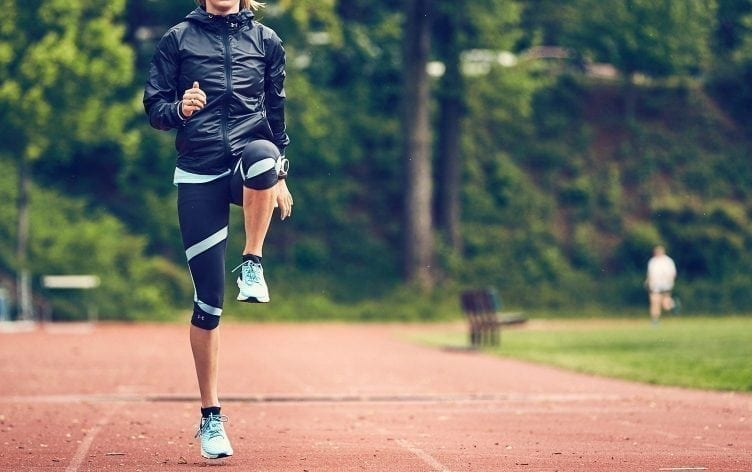feet: (193, 393, 235, 461)
